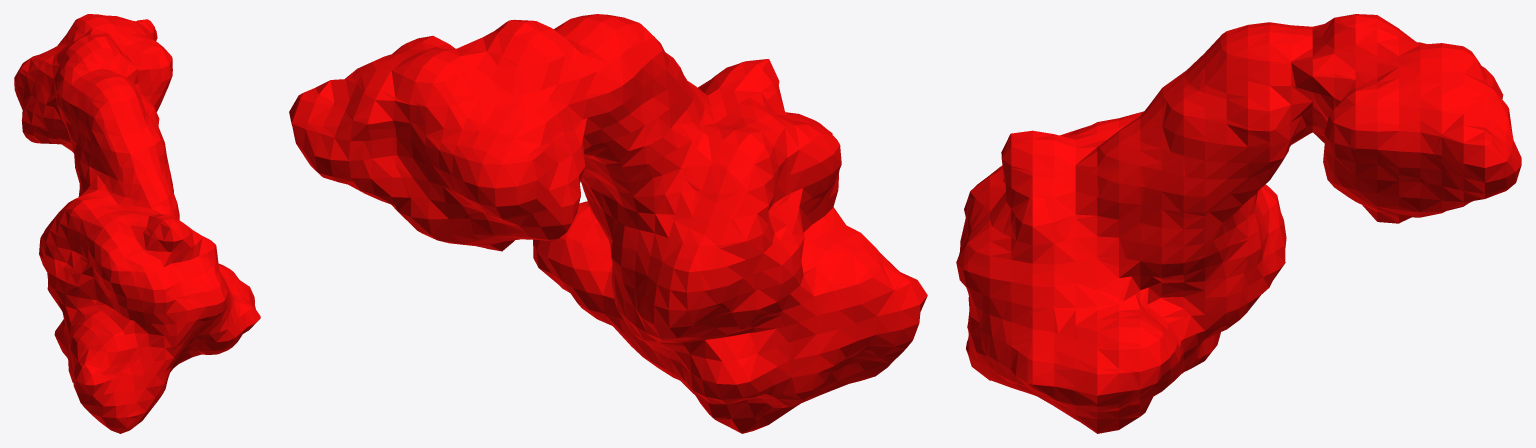
The model's file is ravA_coarse.dae.
The picture shows the model from 3 angles, left to right: view 1: azimuth 30°, elevation 25°; view 2: azimuth 150°, elevation 25°; view 3: azimuth 270°, elevation 25°; orthographic projection. The views are drawn at different scales.
Visible parts, largest first — view 1: ravA; view 2: ravA; view 3: ravA.
Boxes of the visible parts, <box> form: ravA: <box>14,14,260,433</box>; ravA: <box>289,14,927,433</box>; ravA: <box>956,14,1521,433</box>.
Size of the model in its own units: 69.28 by 84.69 by 94.52.
